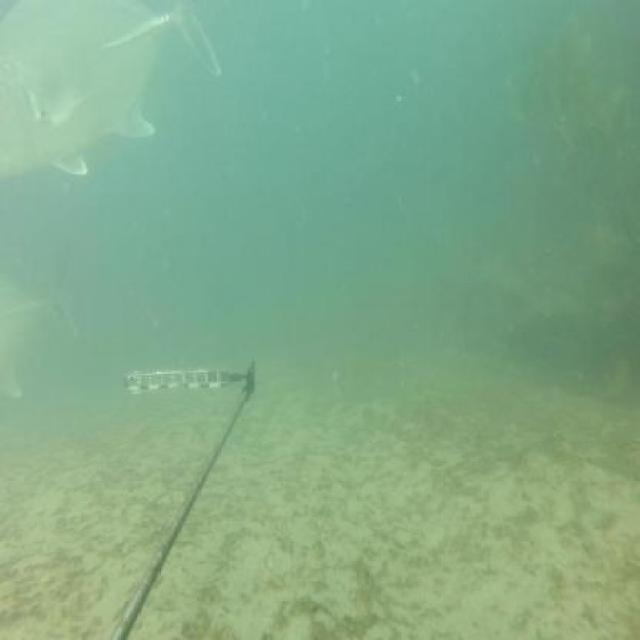Caranx: (1, 0, 224, 194), (2, 247, 80, 404)
